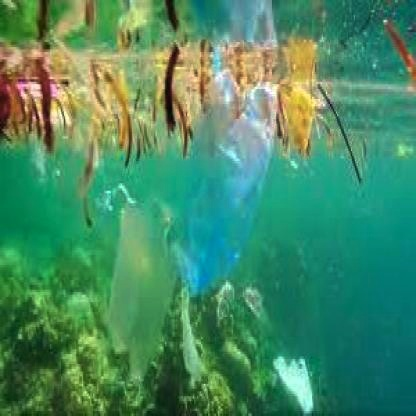pbag: (173, 64, 280, 292), (110, 198, 181, 384)
